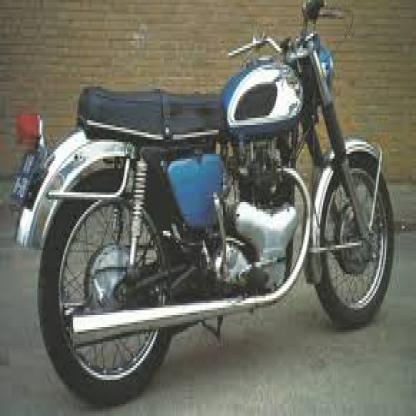Motorcycle: (7, 1, 407, 411)
